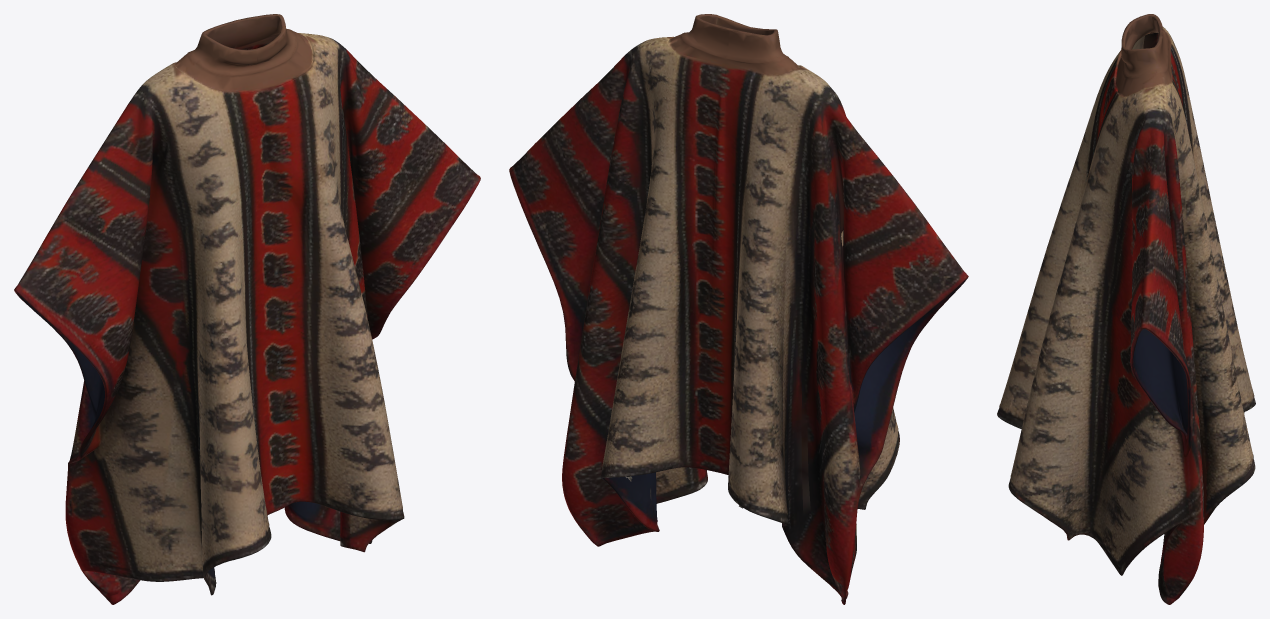
The model's file is dress-02.glb.
3 renders of one model, left to right at view 1: azimuth 30°, elevation 25°; view 2: azimuth 150°, elevation 25°; view 3: azimuth 270°, elevation 25°, orthographic. The views are drawn at different scales.
Parts seen in each view (by area): view 1: node_0; view 2: node_0; view 3: node_0.
Boxes of the visible parts, <box> form: node_0: <box>14,14,480,604</box>; node_0: <box>509,14,968,604</box>; node_0: <box>997,14,1255,604</box>.
Size of the model in its own units: 0.9346 by 1.07 by 0.4859.
Materials: 1 (1 with a texture image).
